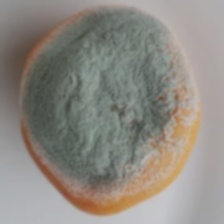orange: (31, 30, 175, 200)
